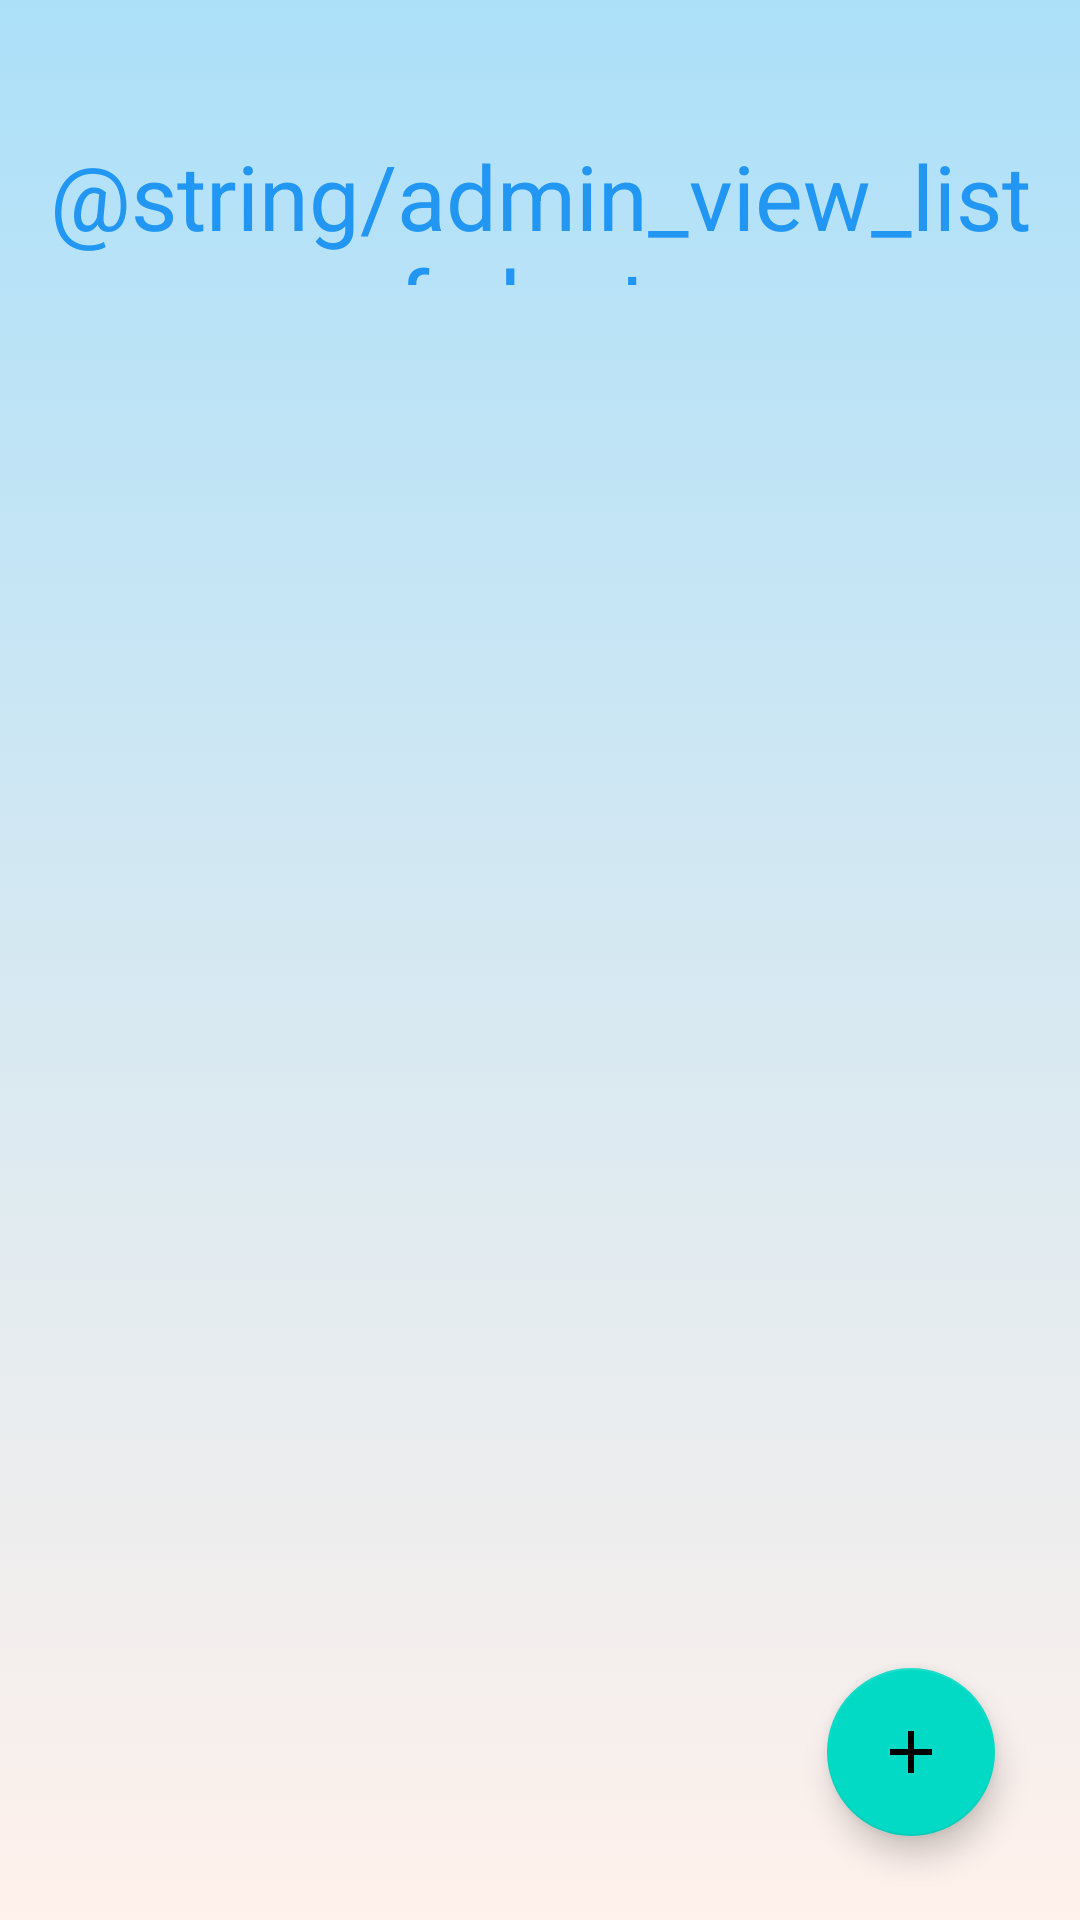

Locate icon controls on the screen. Image size 1080x1920, boxes as Rect(x1, y1, x2, y2).
add: Rect(827, 1668, 995, 1836)
